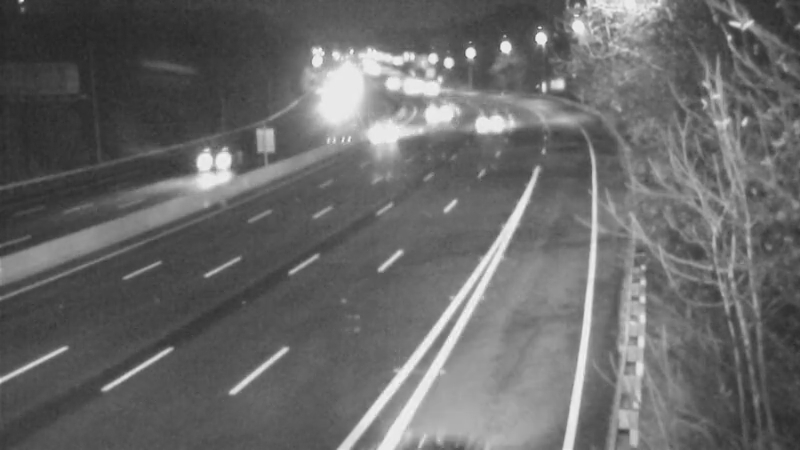vehicle: (166, 123, 246, 203), (408, 87, 458, 137), (467, 94, 517, 144), (381, 106, 431, 156)
